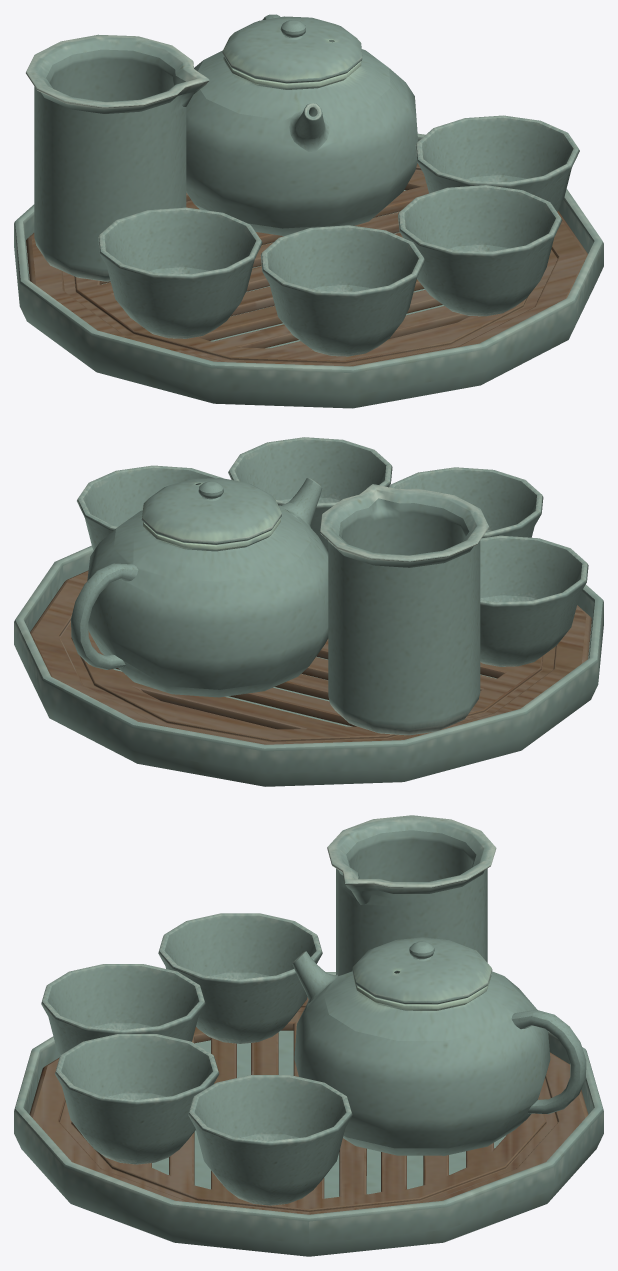
The model's file is teaset.glb.
The picture shows the model from 3 angles, top to bottom: view 1: azimuth 30°, elevation 25°; view 2: azimuth 150°, elevation 25°; view 3: azimuth 270°, elevation 25°; orthographic projection.
Visible parts, largest first — view 1: pot, pCylinder3, pCylinder4, pCylinder5, cup2, cup3, cup1, cup, pCylinder2; view 2: pot, pCylinder3, pCylinder4, pCylinder5, cup3, cup1, pCylinder2, cup2, cup; view 3: pot, pCylinder4, pCylinder5, pCylinder3, cup, cup1, cup3, cup2, pCylinder2.
Part boxes in pixels (x1,y1,x2,y2): pot: (186, 14, 418, 235); pCylinder3: (26, 34, 209, 281); pCylinder4: (14, 133, 603, 408); pCylinder5: (26, 163, 587, 366); cup2: (260, 225, 425, 356); cup3: (98, 207, 262, 338); cup1: (398, 185, 562, 316); cup: (415, 115, 579, 211); pCylinder2: (222, 16, 362, 83); pot: (71, 477, 328, 697); pCylinder3: (320, 484, 488, 735); pCylinder4: (14, 545, 603, 786); pCylinder5: (30, 570, 591, 744); cup3: (480, 535, 588, 666); cup1: (228, 437, 392, 551); pCylinder2: (141, 478, 281, 544); cup2: (389, 467, 543, 537); cup: (77, 465, 222, 550); pot: (292, 951, 586, 1155); pCylinder4: (14, 972, 603, 1256); pCylinder5: (29, 997, 588, 1214); pCylinder3: (327, 815, 496, 975); cup: (188, 1075, 352, 1205); cup1: (55, 1034, 219, 1164); cup3: (158, 913, 322, 1043); cup2: (41, 964, 205, 1054); pCylinder2: (352, 937, 492, 1004).
Bounding box in the file's own units: 0.2407 × 0.1 × 0.2425.
Materials: 1 (1 with a texture image).
